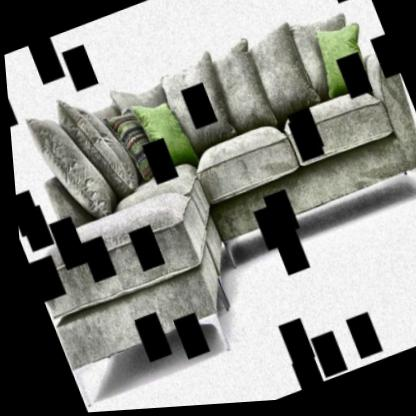Sofa: (1, 0, 416, 307)
